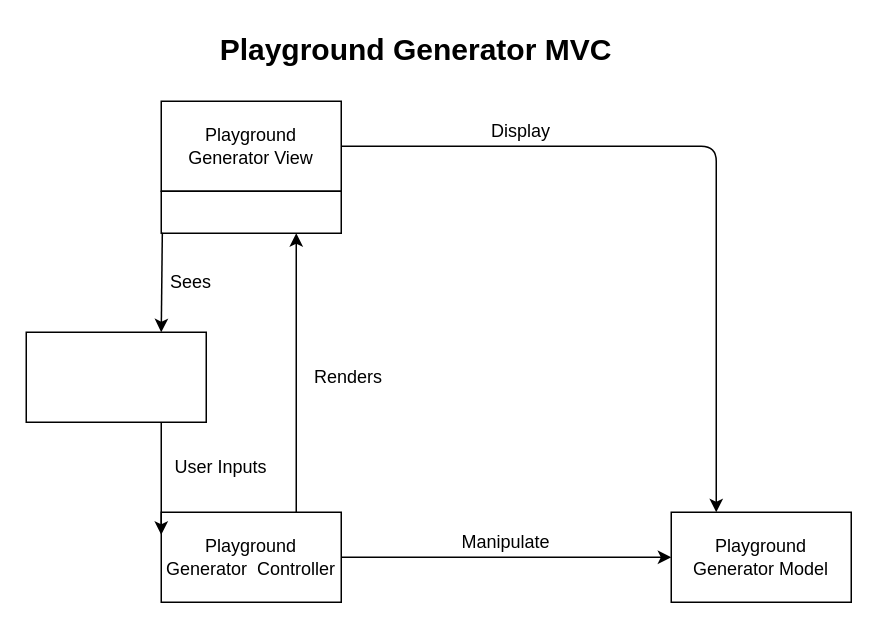
Image size: 878x629. Some labels were removed from this diagram. The centre of each missing label's shape, as x and y in pixels:
User: pixel 115 376
Website UI: pixel 250 211
